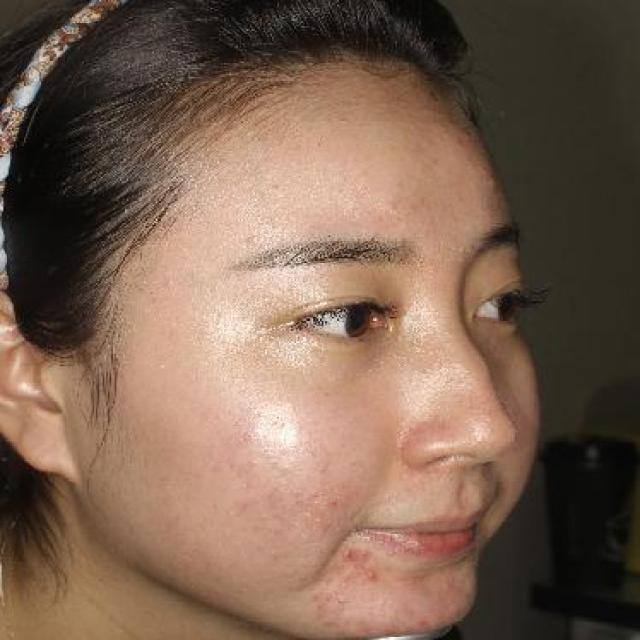blackheads: (323, 494, 344, 512)
papules: (365, 570, 385, 584), (340, 548, 358, 562)
pustules: (238, 229, 263, 248)
whiteheads: (267, 175, 284, 194)
